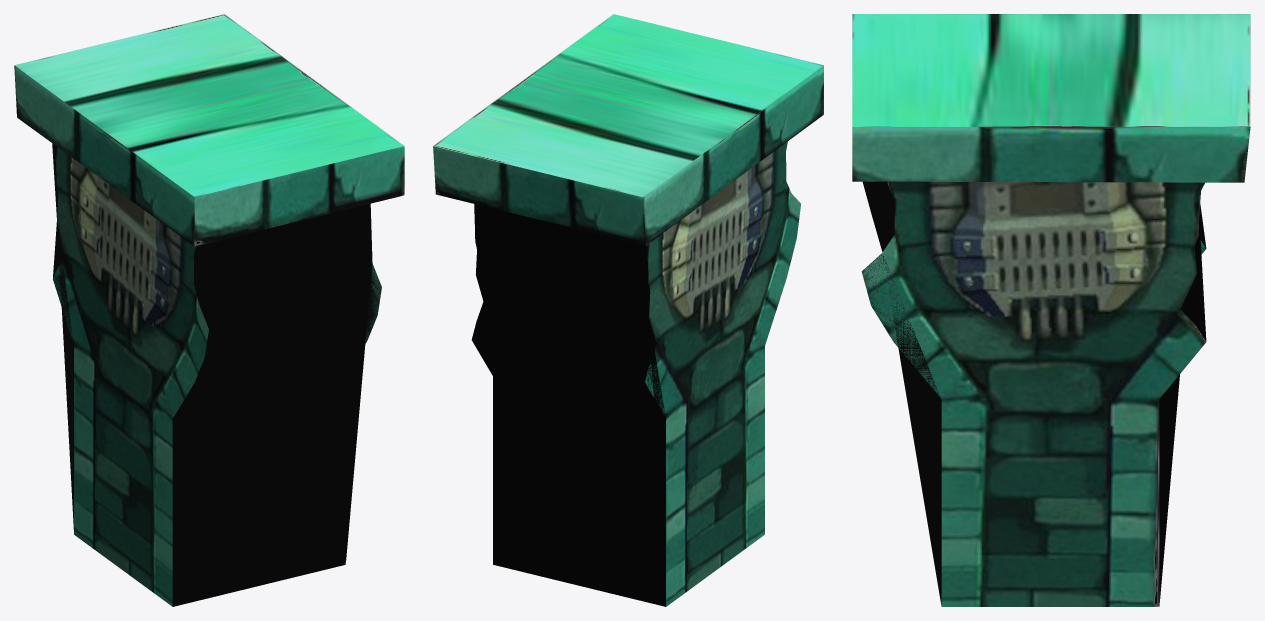
The model's file is Puente2.FBX.
3 views of the same model, side by side, from view 1: azimuth 30°, elevation 25°; view 2: azimuth 150°, elevation 25°; view 3: azimuth 270°, elevation 25° (orthographic). The views are drawn at different scales.
Parts seen in each view (by area): view 1: pCube1; view 2: pCube1; view 3: pCube1.
Boxes of the visible parts, <box> form: pCube1: <box>14,14,404,606</box>; pCube1: <box>433,14,823,606</box>; pCube1: <box>852,14,1250,606</box>.
Bounding box in the file's own units: 4.63 × 9.35 × 6.89.
